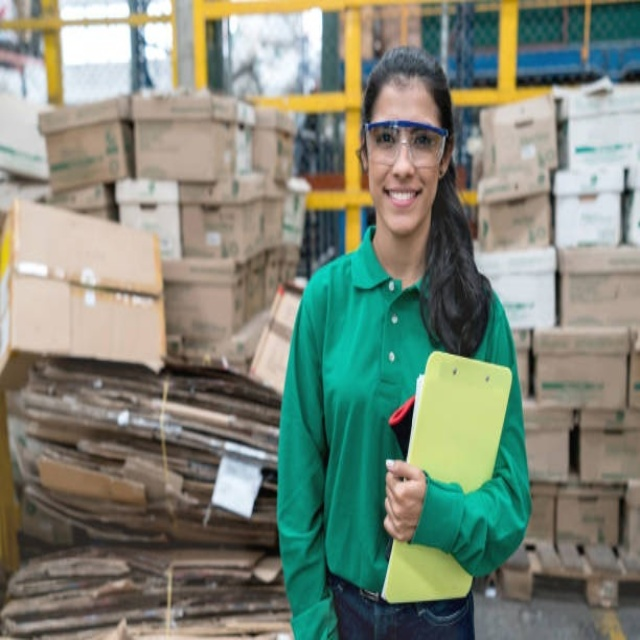Gafas: (365, 121, 449, 171)
Sin_guantes: (381, 459, 429, 545)
Sin_mascara: (380, 177, 422, 231)
